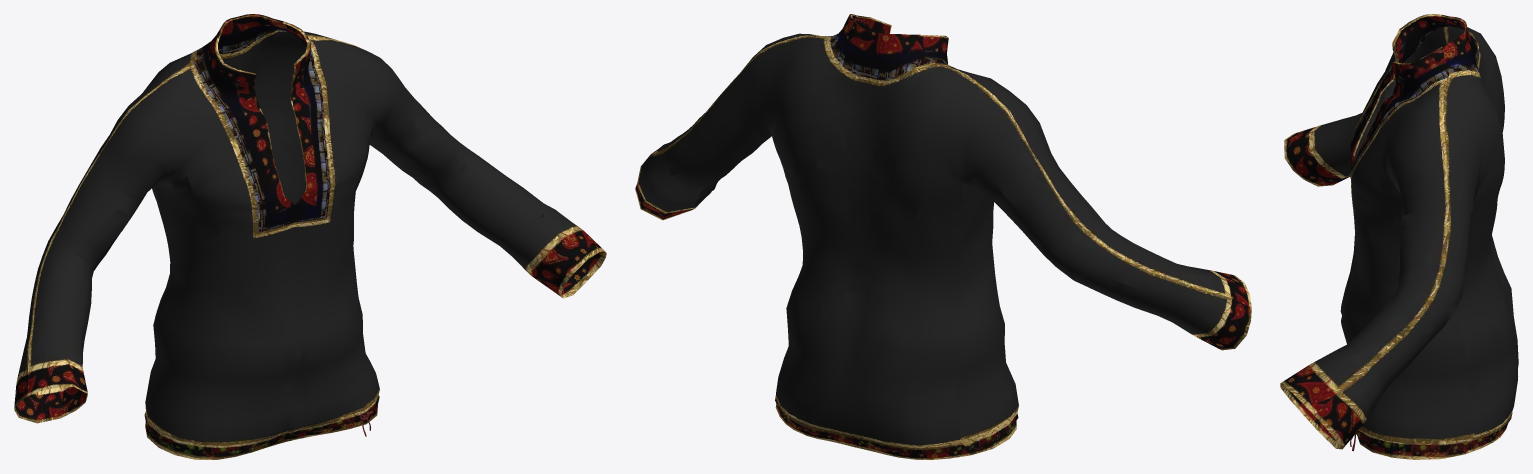
Rendered from elvs-male-boho-top1.glb.
3 views of the same model, side by side, from view 1: azimuth 30°, elevation 25°; view 2: azimuth 150°, elevation 25°; view 3: azimuth 270°, elevation 25° (orthographic). The views are drawn at different scales.
Visible parts, largest first — view 1: male boho top; view 2: male boho top; view 3: male boho top.
Part boxes in pixels (x1,y1,x2,y2): male boho top: (14, 14, 606, 459); male boho top: (635, 14, 1251, 459); male boho top: (1280, 14, 1518, 459).
Bounding box in the file's own units: 109 × 69.74 × 38.61.
Materials: 1 (1 with a texture image).
